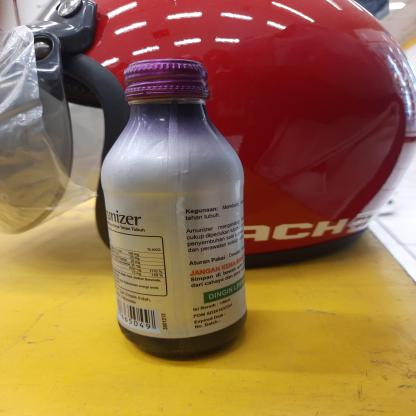glass: (93, 54, 254, 362)
